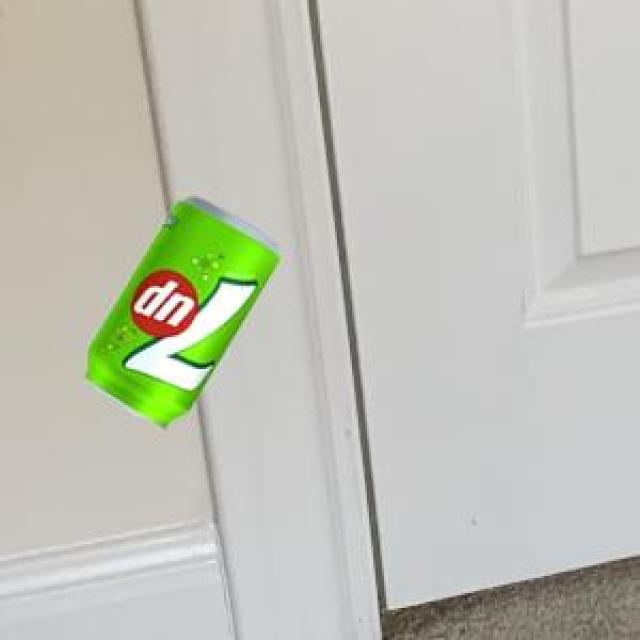logam: (82, 195, 276, 426)
